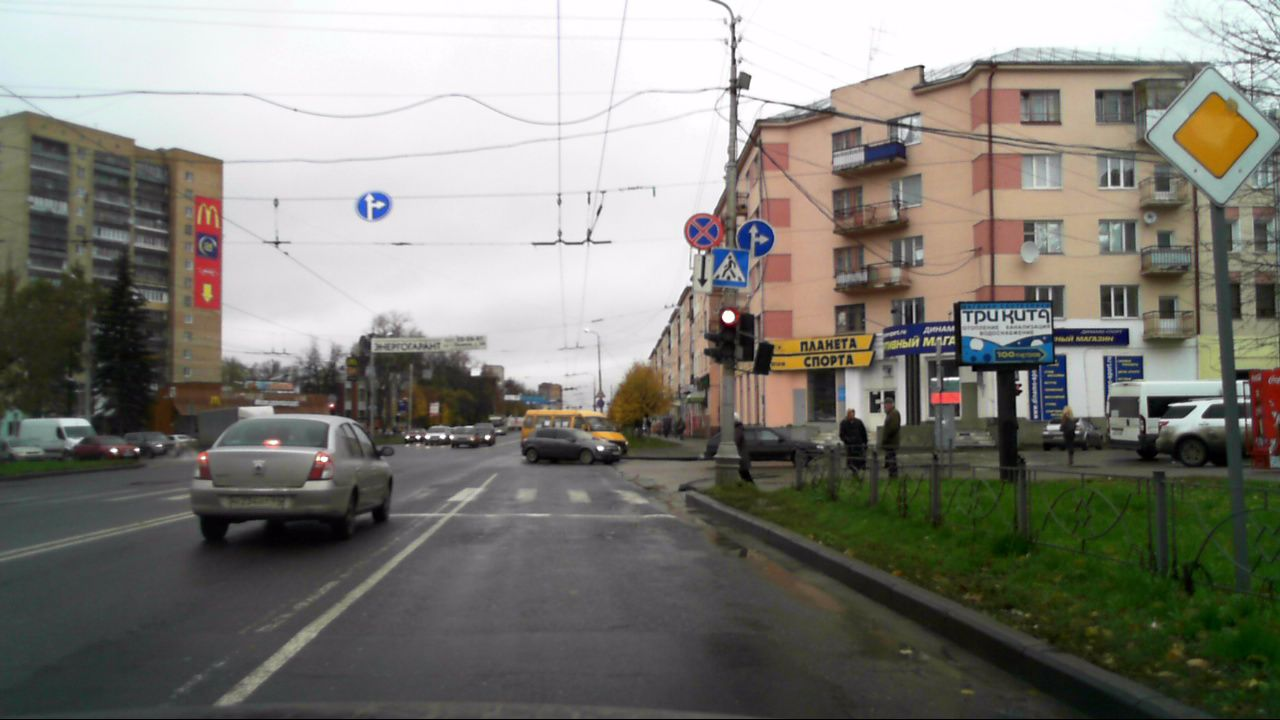No Parking: (683, 212, 722, 249)
